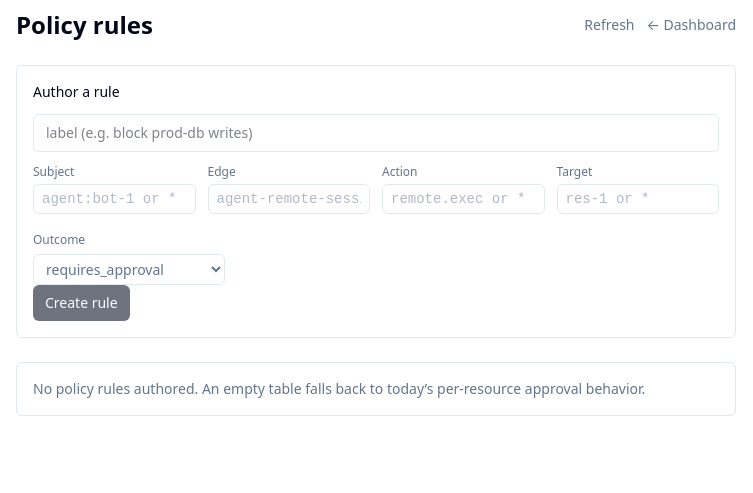
Test: PolicyRules route › shows an error when create fails
In the field labelled "label": (376, 133) [33,114,719,152], type "dup"
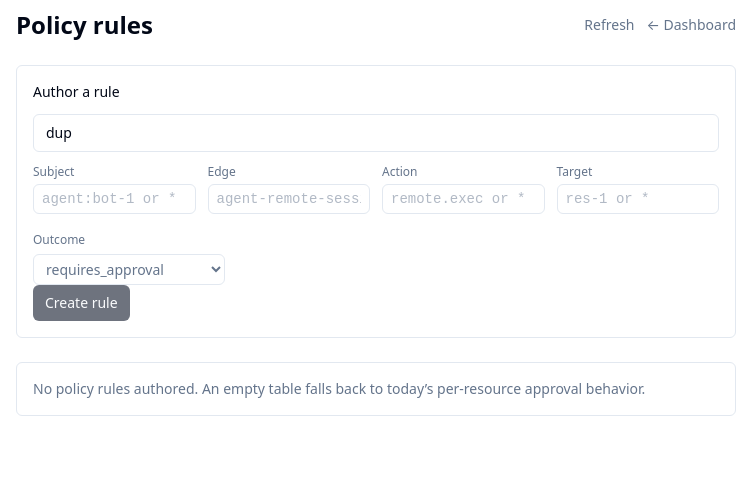
In the field labelled "Subject": (114, 199) [33,184,196,214], type "agent:bot-1"
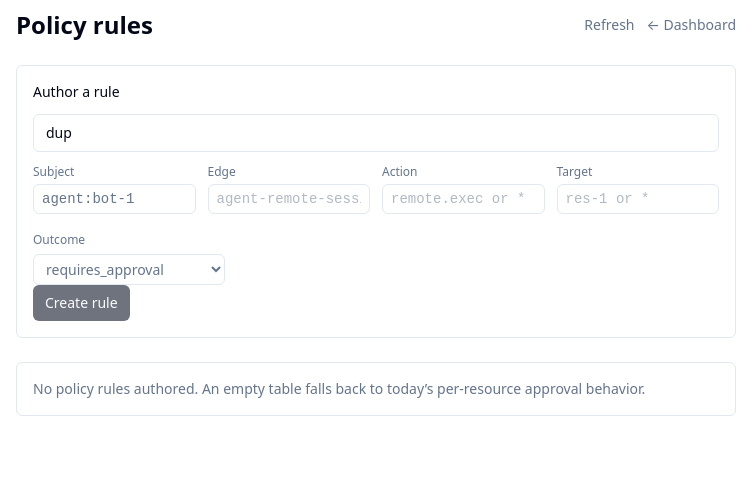
In the field labelled "Edge": (289, 199) [208,184,370,214], type "agent-remote-session"
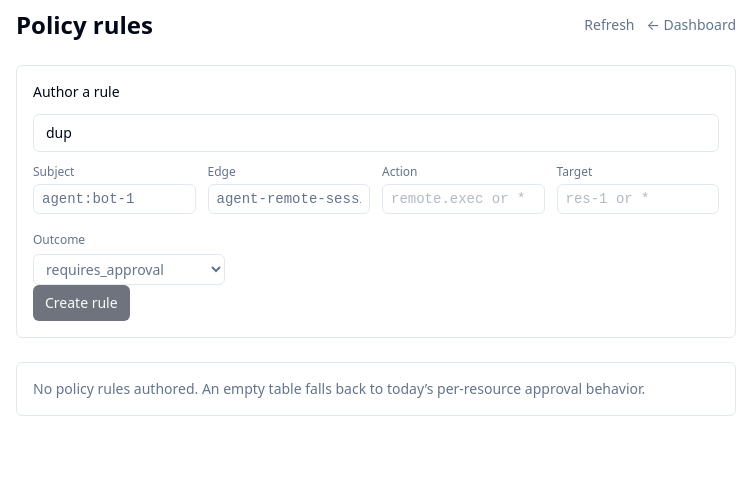
In the field labelled "Action": (463, 199) [382,184,544,214], type "remote.exec"
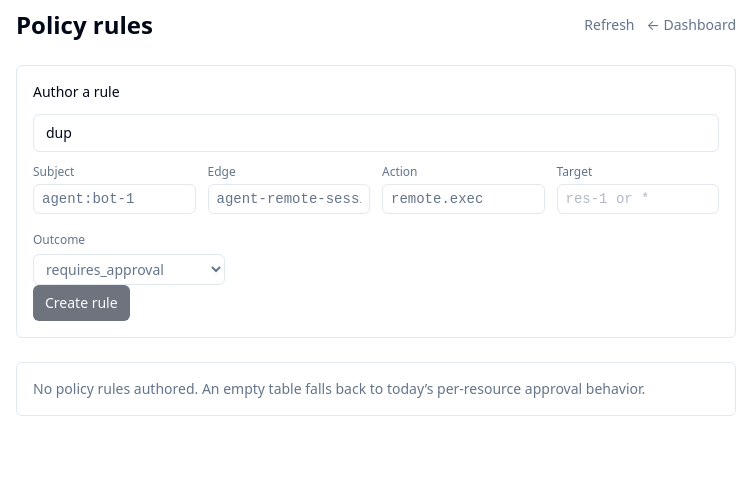
In the field labelled "Target": (638, 199) [556,184,719,214], type "res-1"
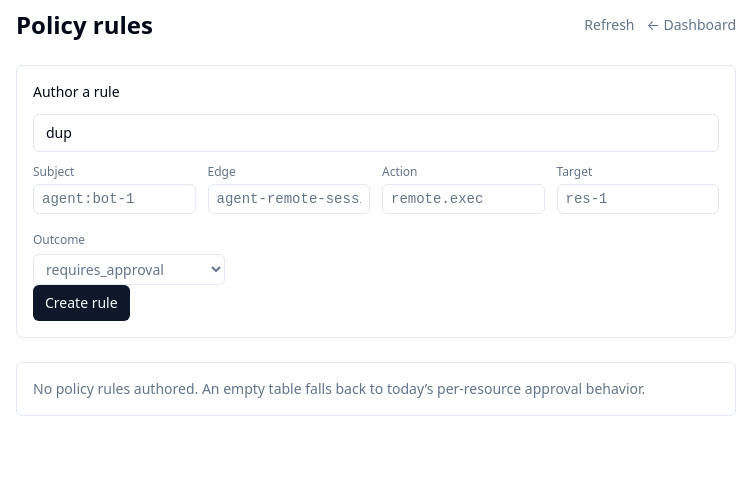
Click the button "Create rule": (81, 303) [33,285,130,321]
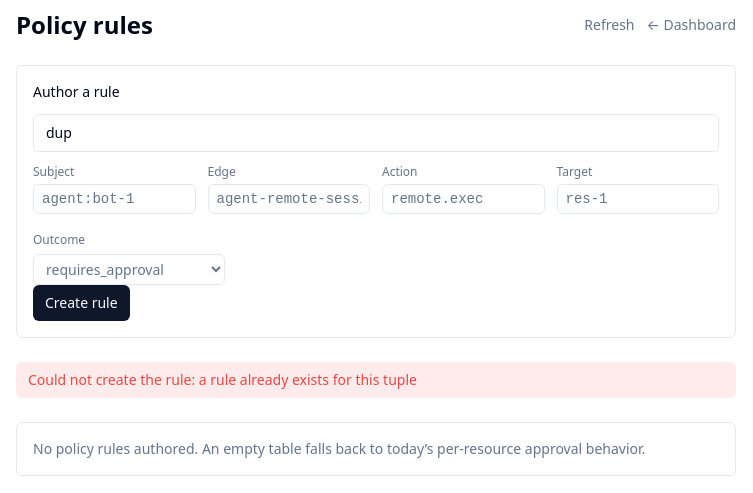
Check: the message shows "Could not create", box [28,370,417,389]
